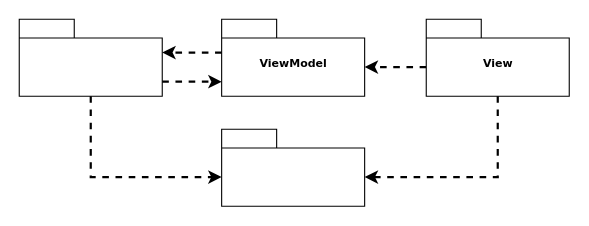
Image size: 589x226. Some labels were removed from this diagram. The centre of each missing label's shape, as x and y in pixels:
"Entities" belongs at (x=293, y=167).
"Model" belongs at (x=90, y=57).
